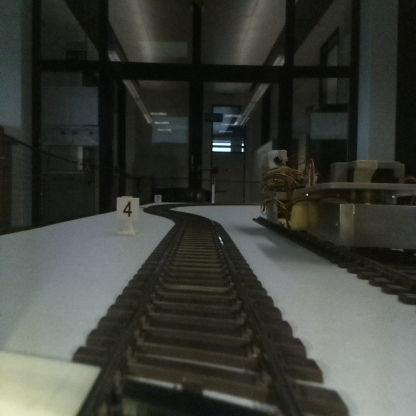black-stop-7: (154, 193, 161, 204)
white-stop-4: (117, 197, 138, 233)
